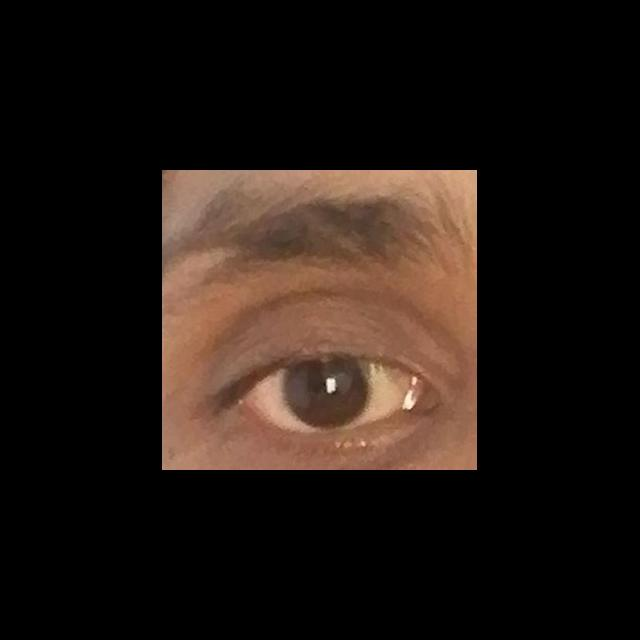eye: (242, 360, 418, 434)
iris: (285, 363, 370, 428)
